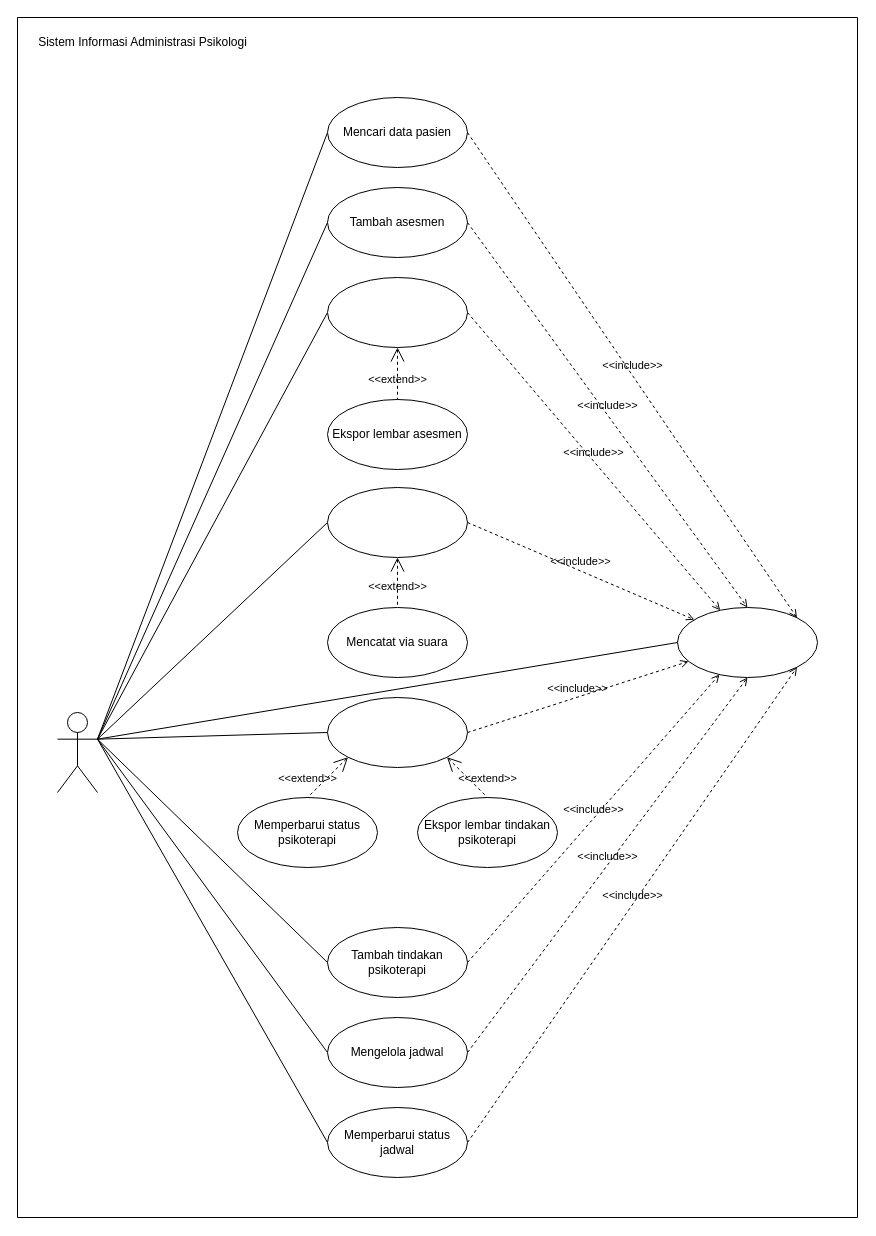
Image size: 876x1236. Some labels were removed from this diagram. The shapes that lost their labels are listed below. From the top down, each one's centre as x and y in pixels, then its label:
(x=397, y=312): Lihat riwayat asesmen
(x=397, y=522): Mengelola catatan medis
(x=747, y=642): Login
(x=77, y=752): Psikolog
(x=397, y=732): Lihat riwayat psikoterapi
